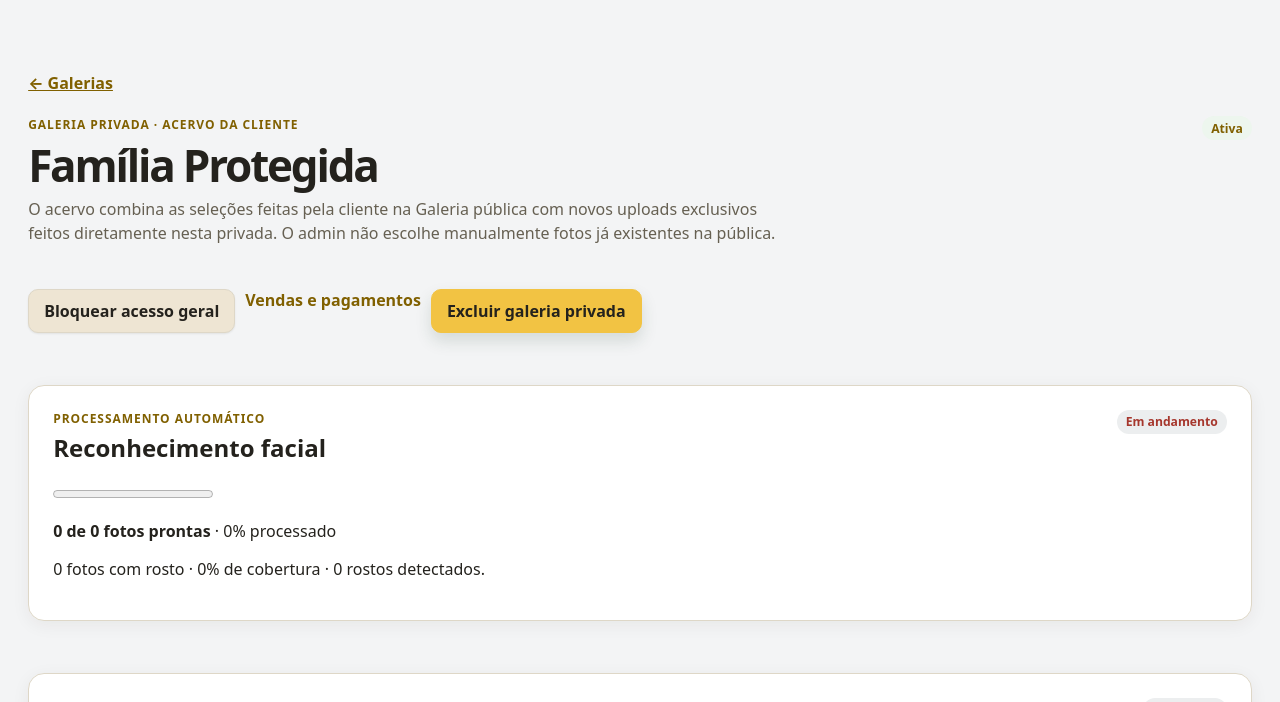
telas administrativas de galerias › mantém a falha de exclusão visível dentro da confirmação da privada
The image size is (1280, 702).
What coordinates should you click on to do the following:
click the button "Excluir galeria privada"
I would click on:
 (536, 311)
Its box is [431,289,642,333].
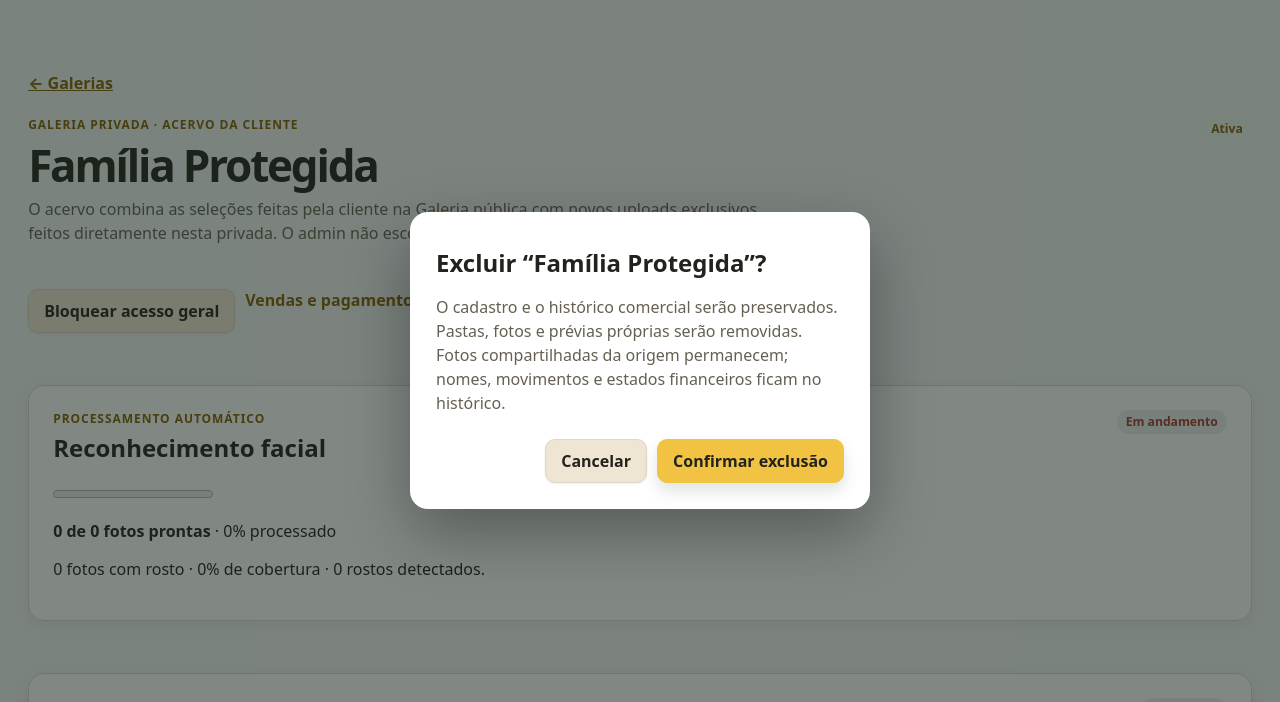
What coordinates should you click on to do the following:
click the button "Confirmar exclusão"
I would click on:
 (750, 460)
Its box is [657,438,844,482].
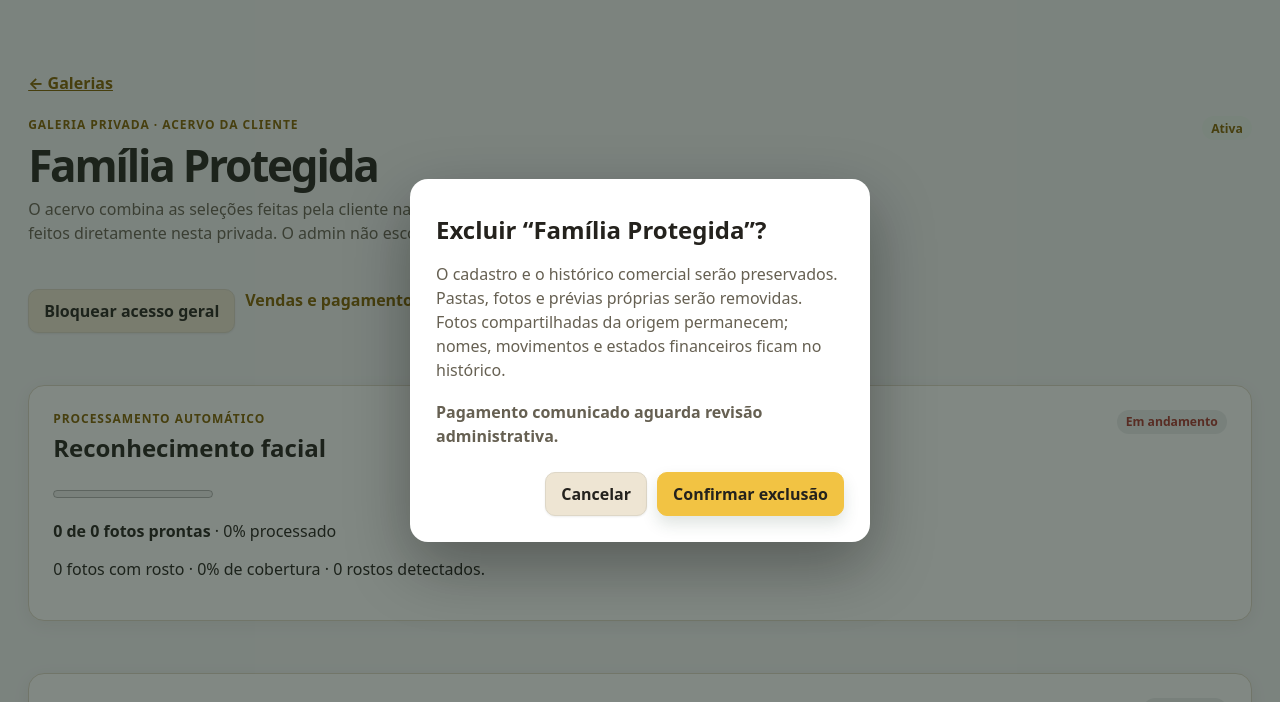
Check: the message reads "Pagamento comunicado aguarda revisão administrativa.", box [436,400,762,446]
